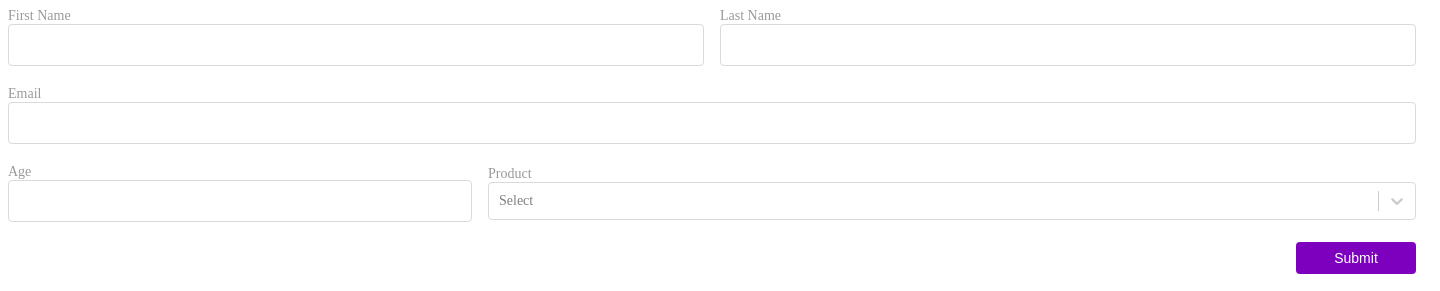
Test: Testing a product insurance sales form component › should throw error for age typed less than 18
Expected: the text "You are not elegible for this product" is not shown
In the field with test id "age": (240, 201) [8,180,472,222], type "12"
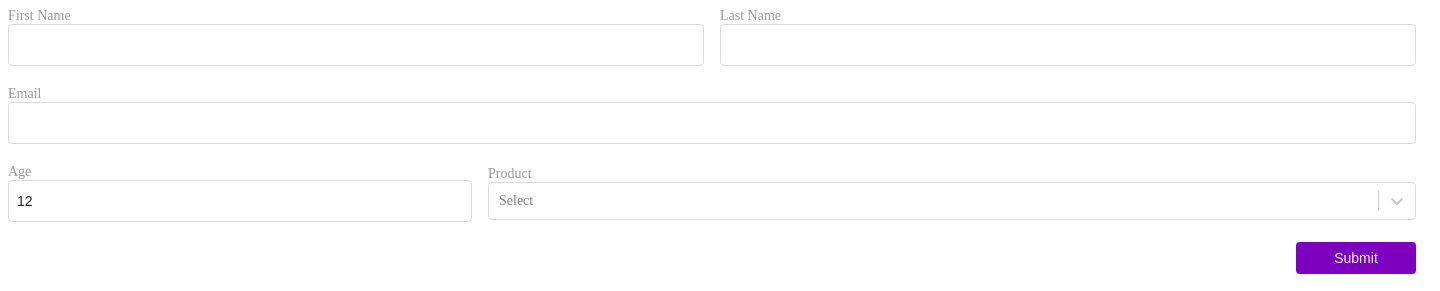
Click the element showing "First Name Last Name Email Age Product Select Submit": (720, 141) [8,8,1432,274]
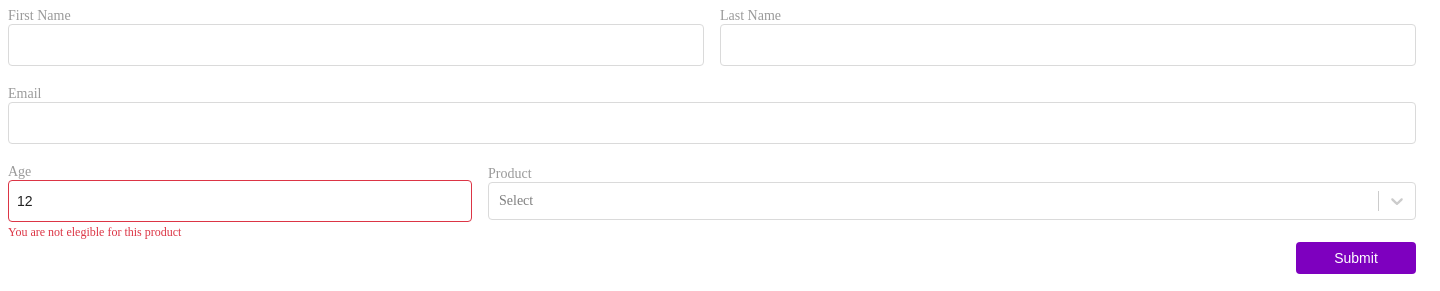
Now the text "You are not elegible for this product" is shown, box [8,225,181,239]
